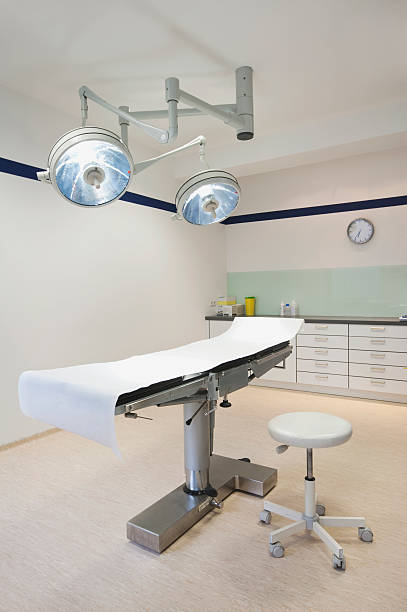chair: (262, 409, 374, 572)
counter: (202, 313, 407, 405)
countertop: (203, 313, 407, 324)
handle: (314, 337, 328, 342), (314, 324, 328, 329), (314, 350, 328, 355), (314, 375, 328, 380), (314, 362, 328, 367), (370, 380, 384, 385), (371, 352, 385, 357), (370, 367, 384, 372), (371, 326, 385, 331), (371, 340, 385, 344)
operating_bed: (16, 314, 304, 555)
surgical_light: (37, 120, 137, 209), (167, 143, 242, 227)
